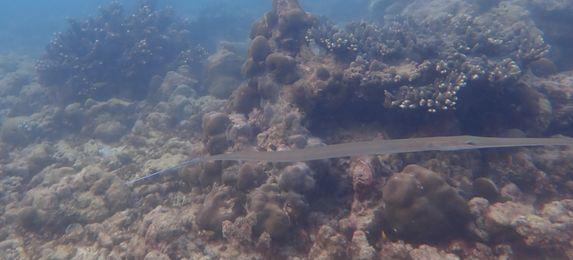Fistularia commersonii: (78, 119, 569, 187)
